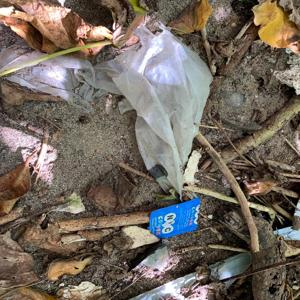plastic: (1, 19, 220, 203), (148, 198, 205, 242)
